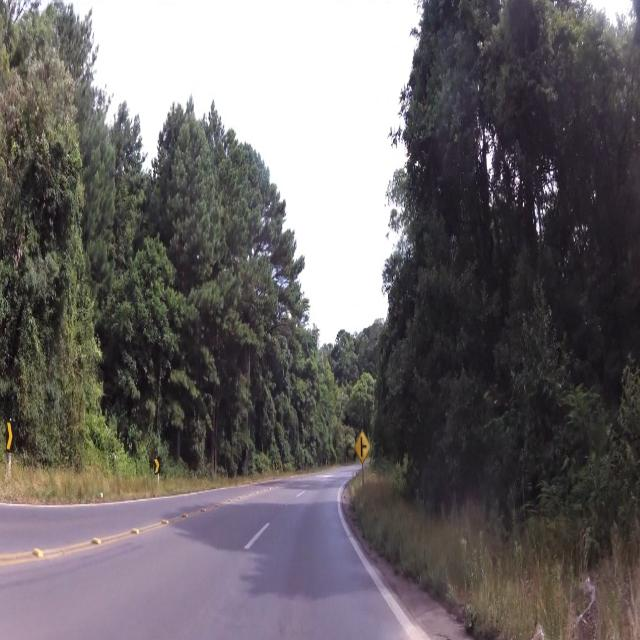A-7b: (355, 424, 371, 465)
